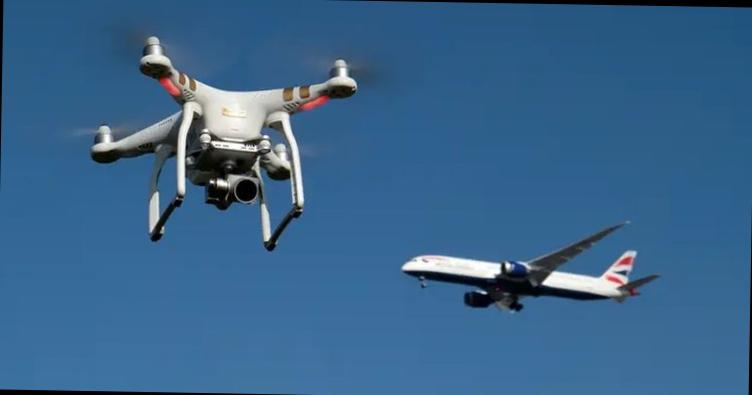drone: (64, 23, 379, 215)
